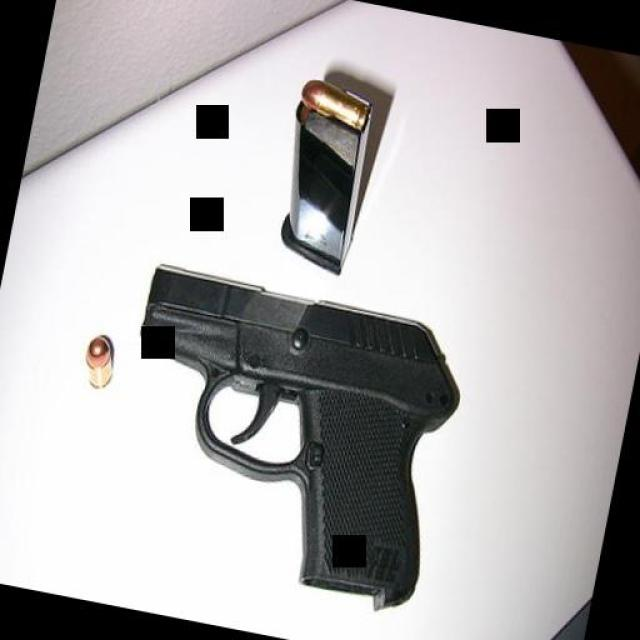gun: (96, 259, 472, 616)
